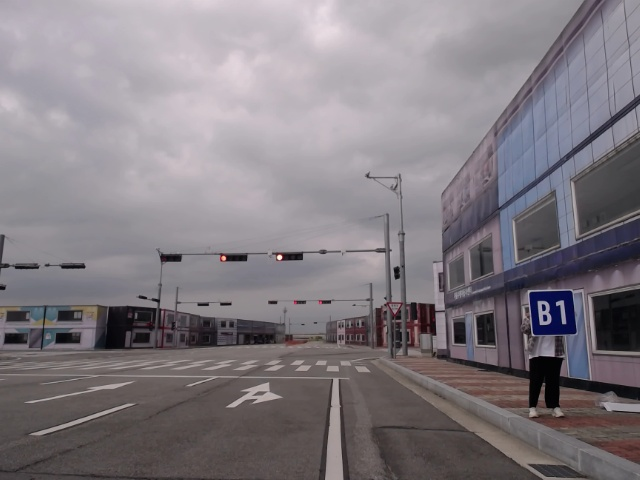delivery_b1: (528, 290, 578, 336)
red_4: (219, 253, 248, 262), (275, 252, 303, 261), (319, 300, 332, 304), (294, 300, 306, 304)
